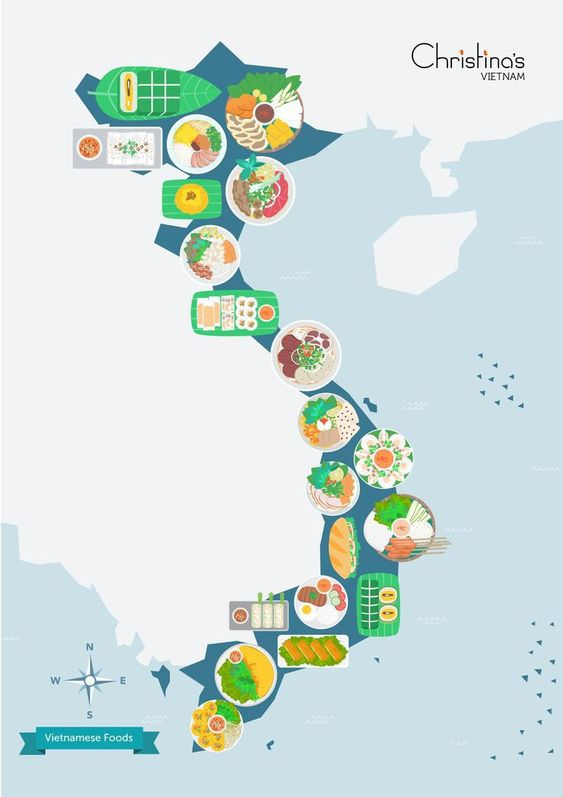Island: (487, 586, 563, 780), (464, 339, 529, 426)
